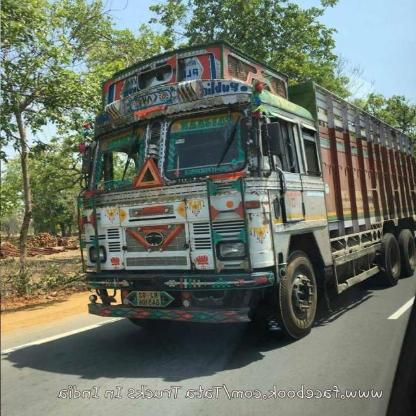truck: (79, 49, 413, 341)
